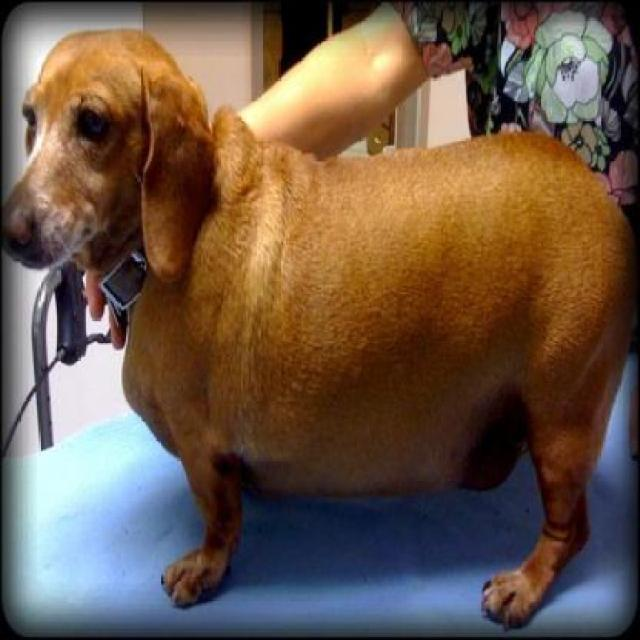Dog: (3, 27, 639, 636)
